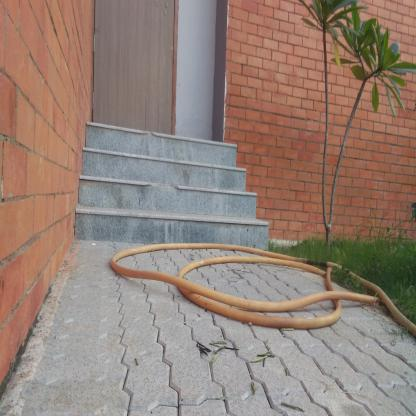stairs: (91, 131, 233, 255)
